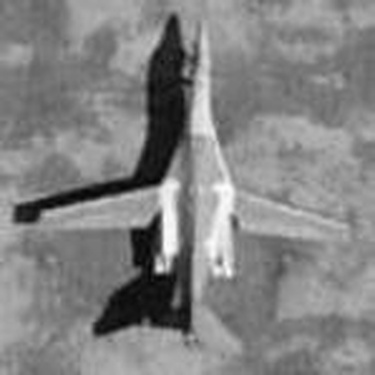airplane: (13, 9, 359, 369)
